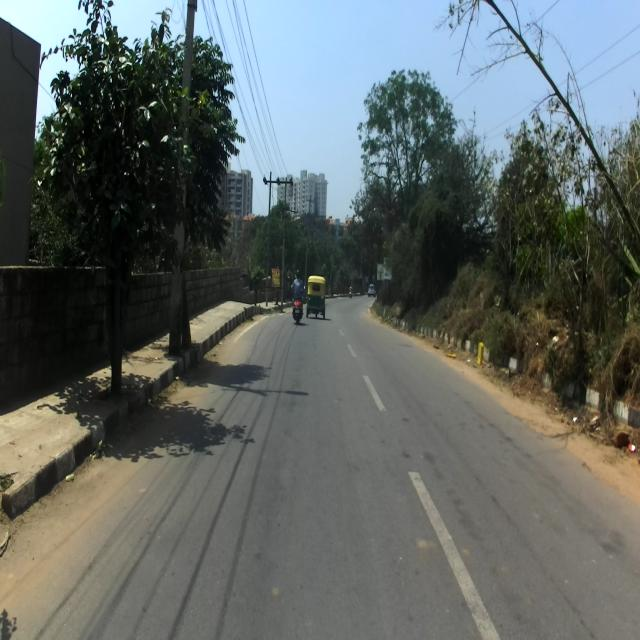electric pole ahead at: (167, 0, 206, 358)
tree ahead at: (87, 168, 144, 412)
